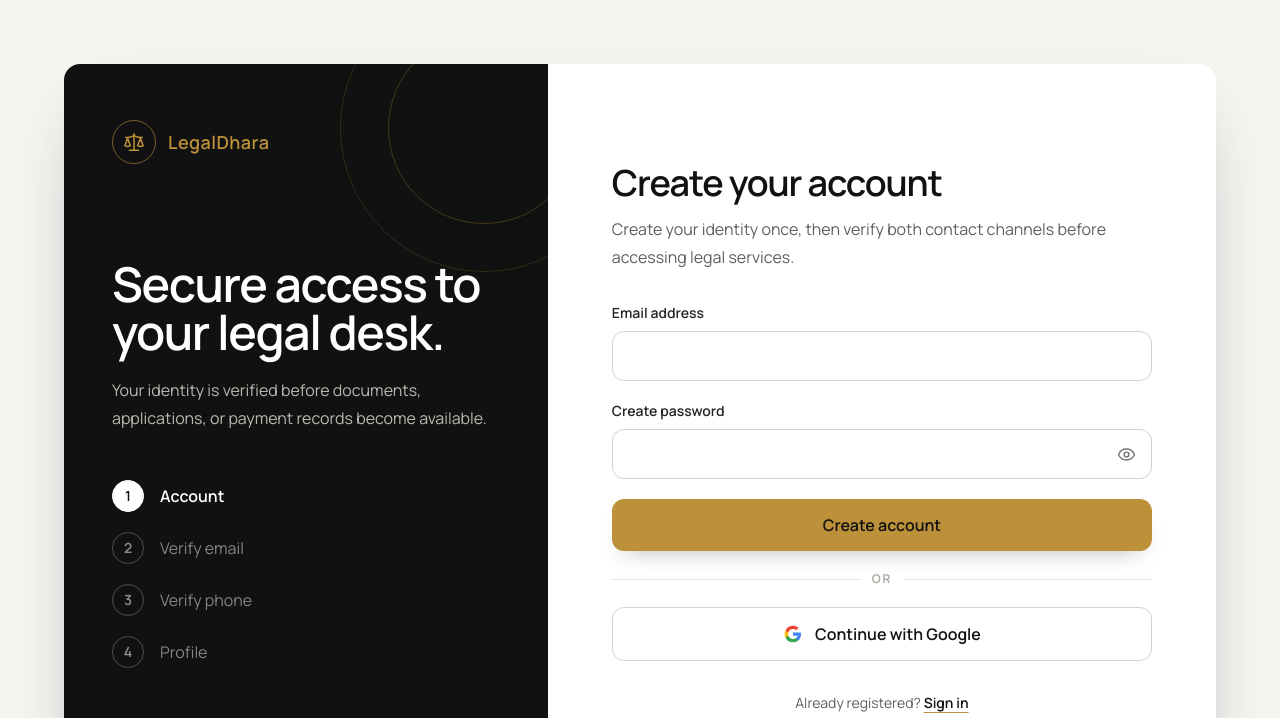
Scenario: customer auth UI › starts verified phone onboarding from the Google signup button
The image size is (1280, 718).
Expected: the picture named "Google" is shown, [783,624,803,644]
Step 1. Click the button "Continue with Google" → [882, 634], box [612,607,1152,661]
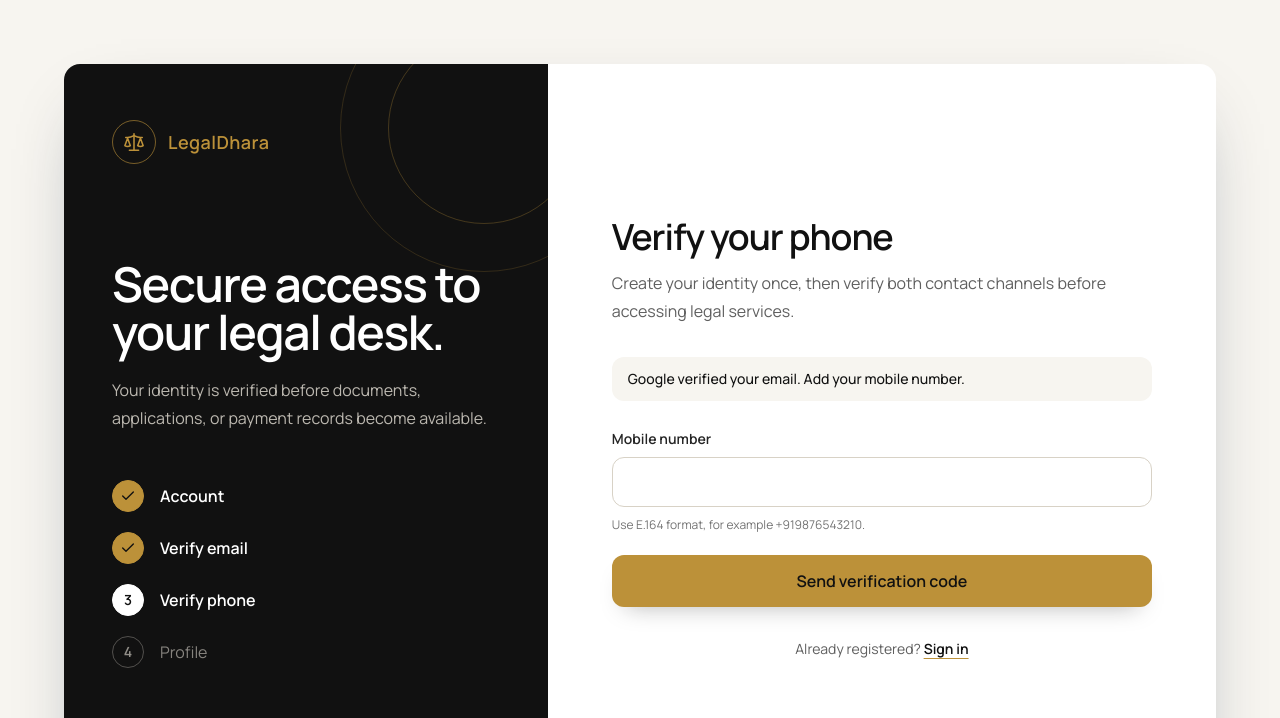
Expected: the field labelled "Mobile number" is shown, [612,457,1152,507]
Expected: the text "Use E.164 format, for example +919876543210." is shown, [612,516,865,533]
